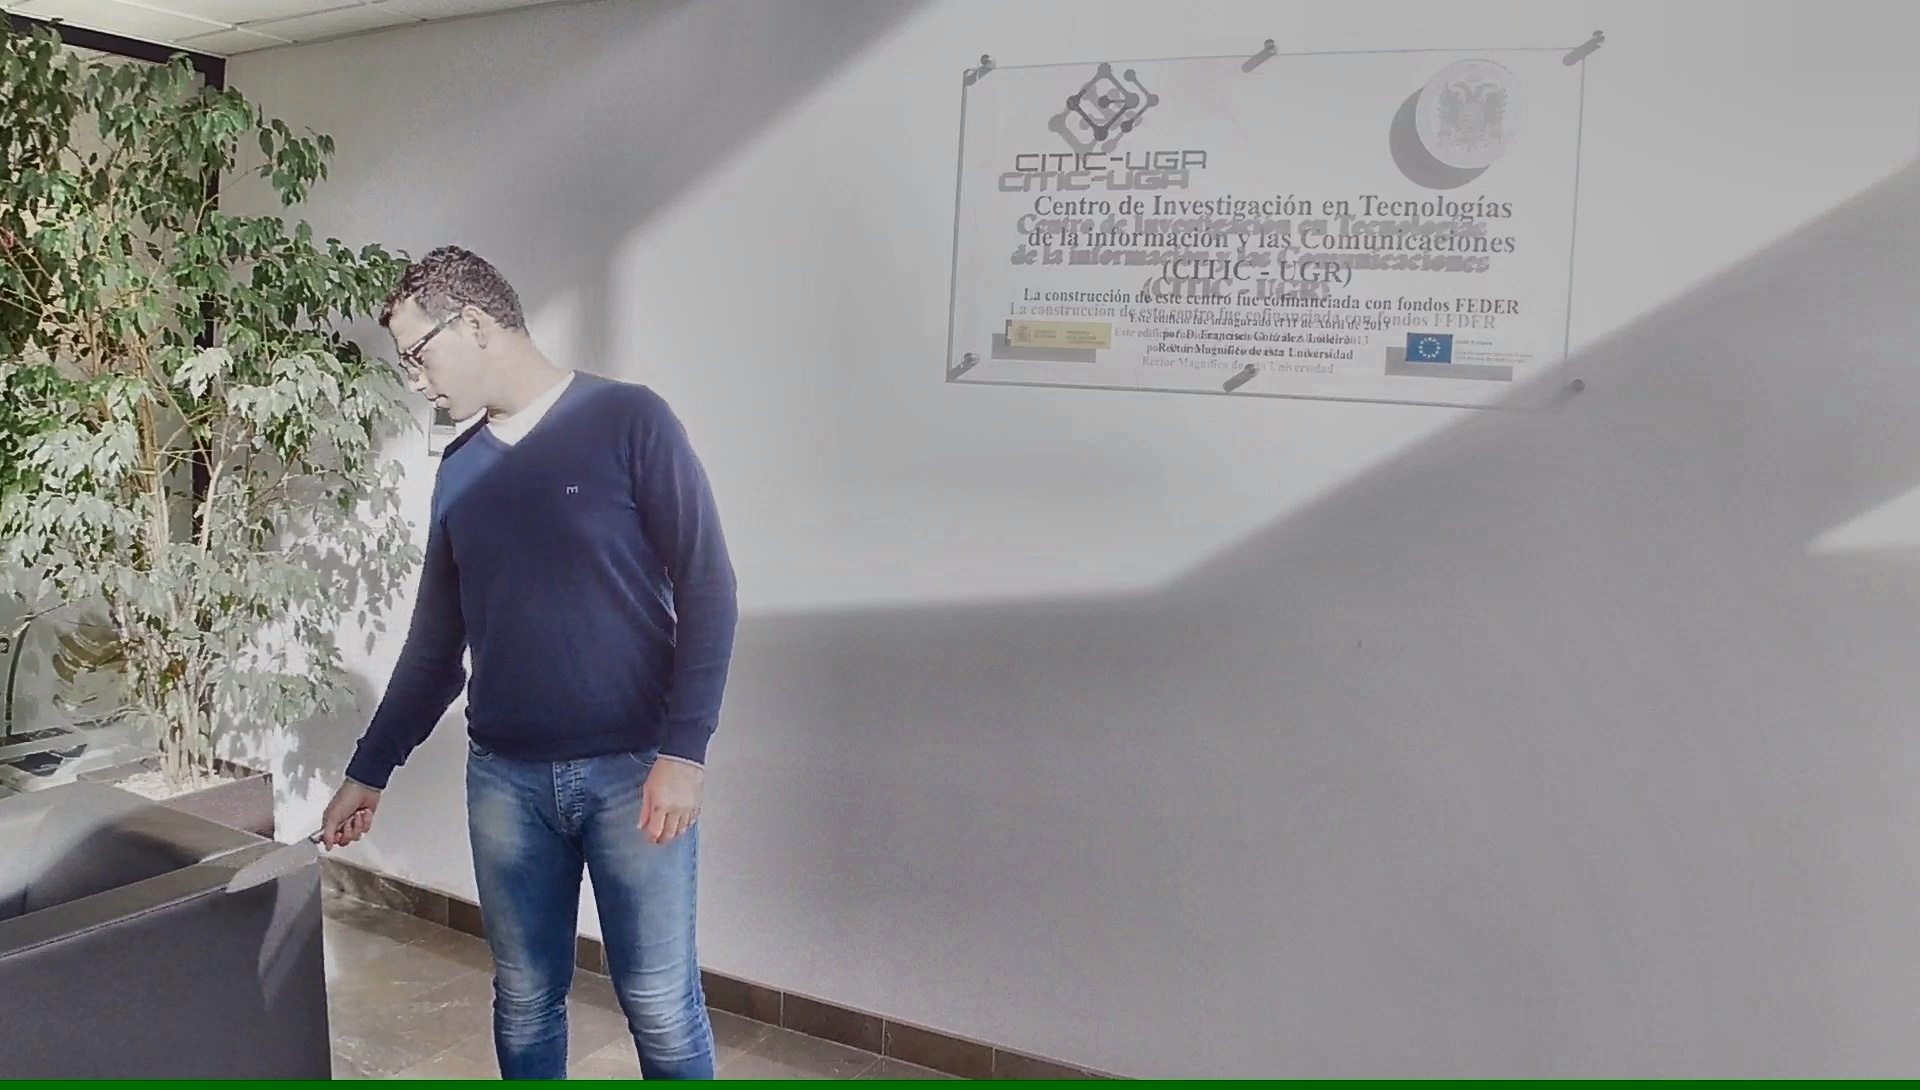knife: (215, 804, 378, 902)
